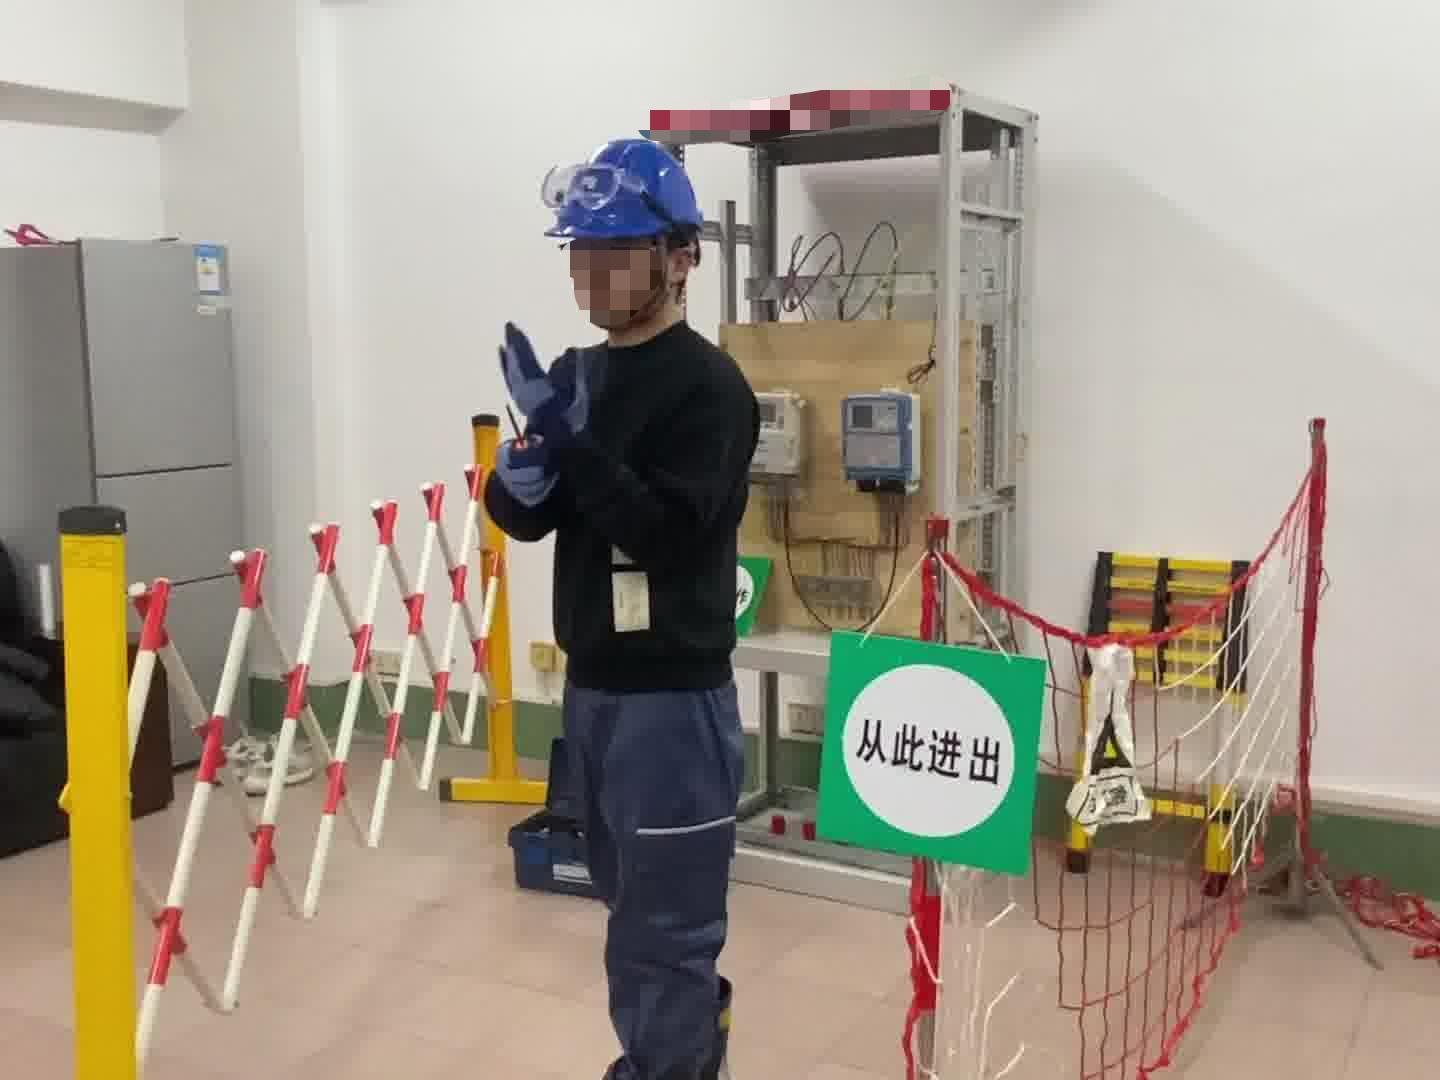halt: (547, 138, 715, 344)
inear: (653, 236, 705, 307)
